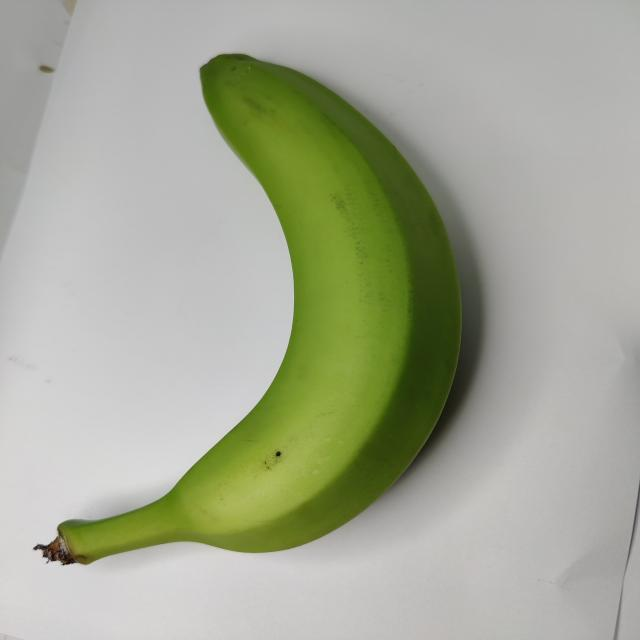raw: (0, 22, 533, 599)
